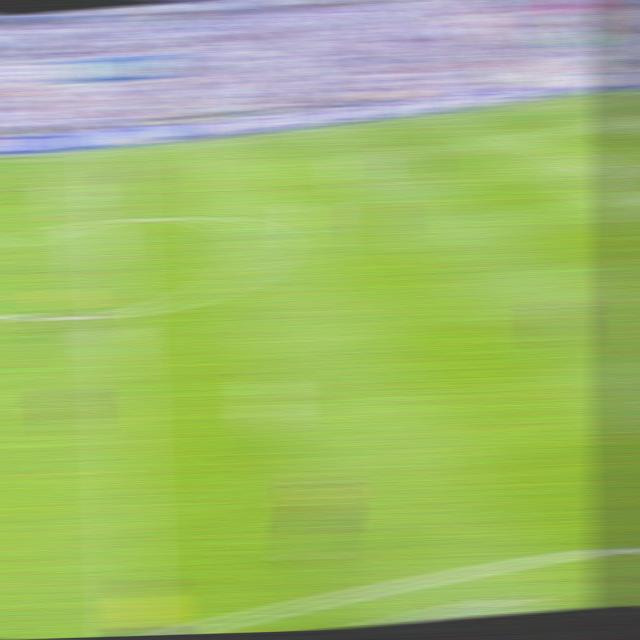corner: (602, 84, 635, 96)
halfcircle_bottom: (101, 296, 140, 327)
halfcircle_top: (97, 208, 133, 232)
midline_bottom_intersection: (109, 621, 153, 636)
midline_top_intersection: (95, 146, 128, 160)
top_arc_area_intersection: (578, 156, 612, 171)
